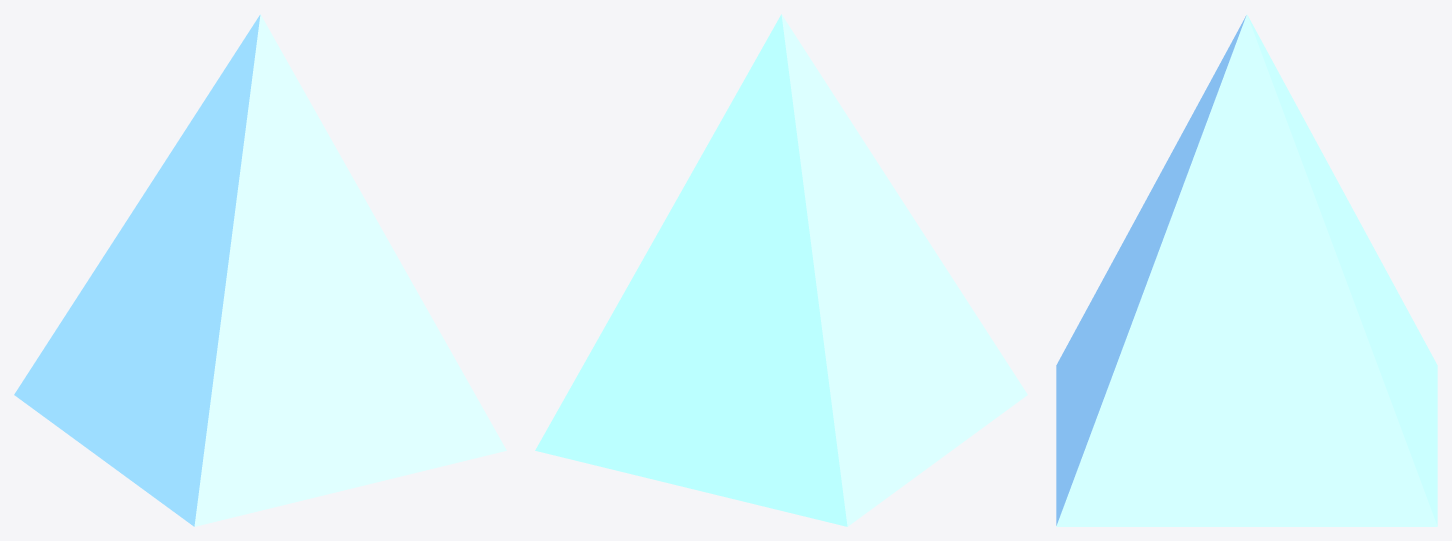
Rendered from menu-background.gltf.
3 views of the same model, side by side, from view 1: azimuth 30°, elevation 25°; view 2: azimuth 150°, elevation 25°; view 3: azimuth 270°, elevation 25° (orthographic). The views are drawn at different scales.
Visible parts, largest first — view 1: MenuShip; view 2: MenuShip; view 3: MenuShip.
Boxes of the visible parts, left/top/right/bottom form: MenuShip: left=14, top=14, right=506, bottom=526; MenuShip: left=535, top=14, right=1027, bottom=526; MenuShip: left=1056, top=14, right=1437, bottom=526.
Size of the model in its own units: 2 by 2.5 by 2.
